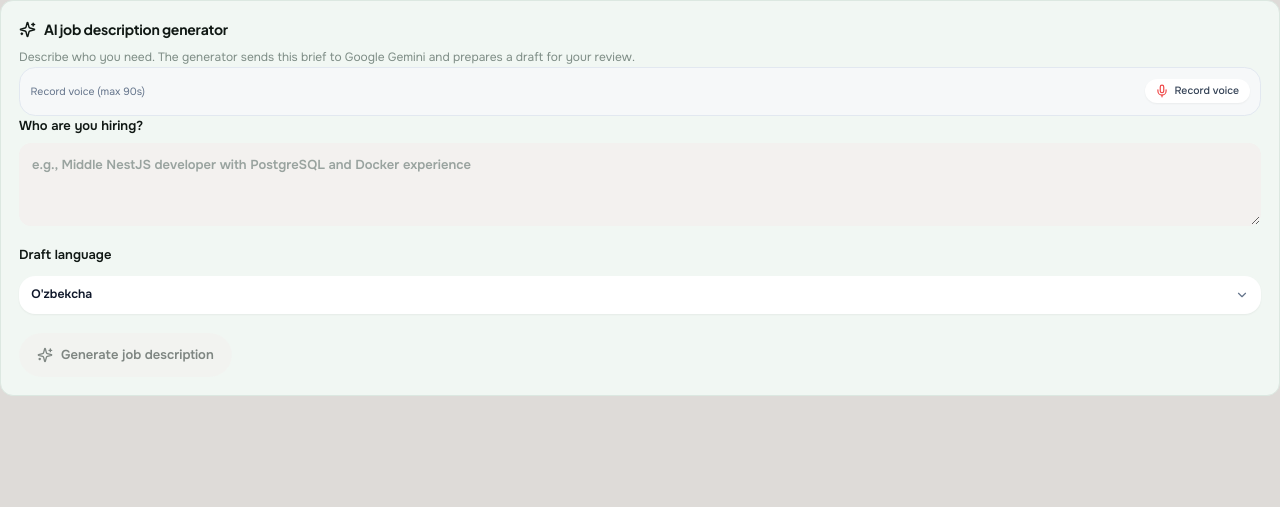
Test case: VacancyGenerator feature › keeps the brief after a provider error so the user can retry
Replace the text in the text box labelled "Who are you hiring?" with "Backend developer kerak" at (640, 184), box [19, 143, 1261, 226]
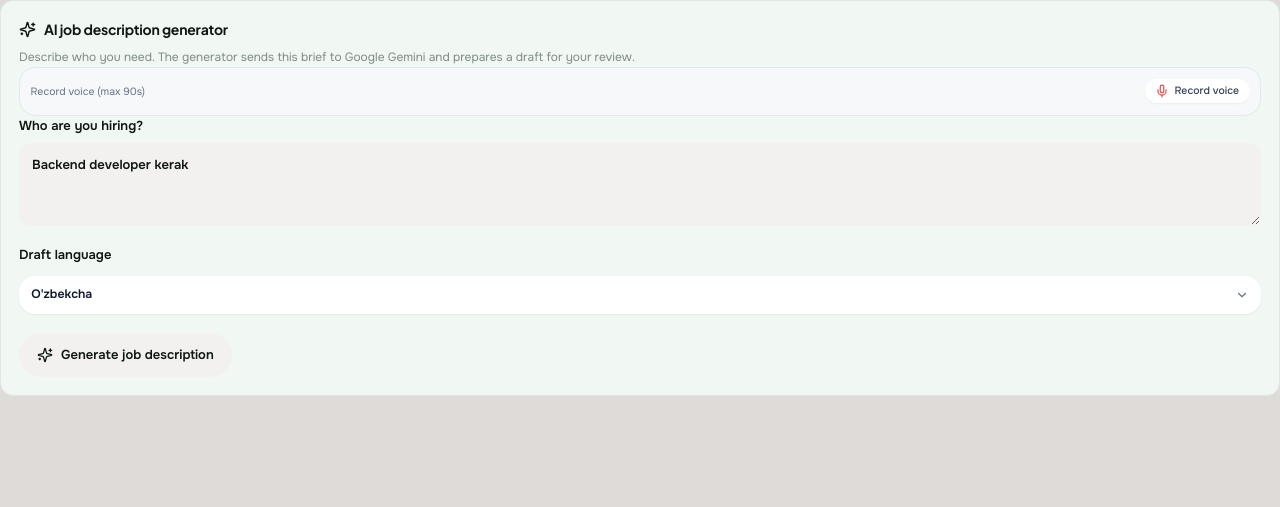
Click the button "Generate job description" at (125, 355), box [19, 333, 232, 377]
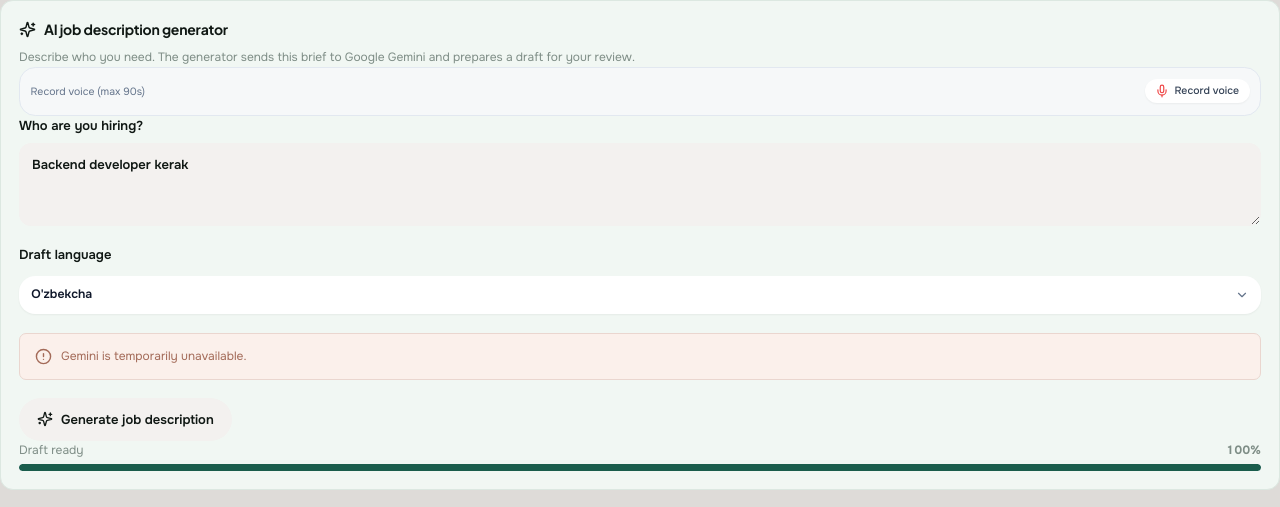
Expected: the button "Generate job description" is enabled, [19, 398, 232, 441]
Expected: the message "Gemini is temporarily unavailable." is shown, [19, 333, 1261, 380]
